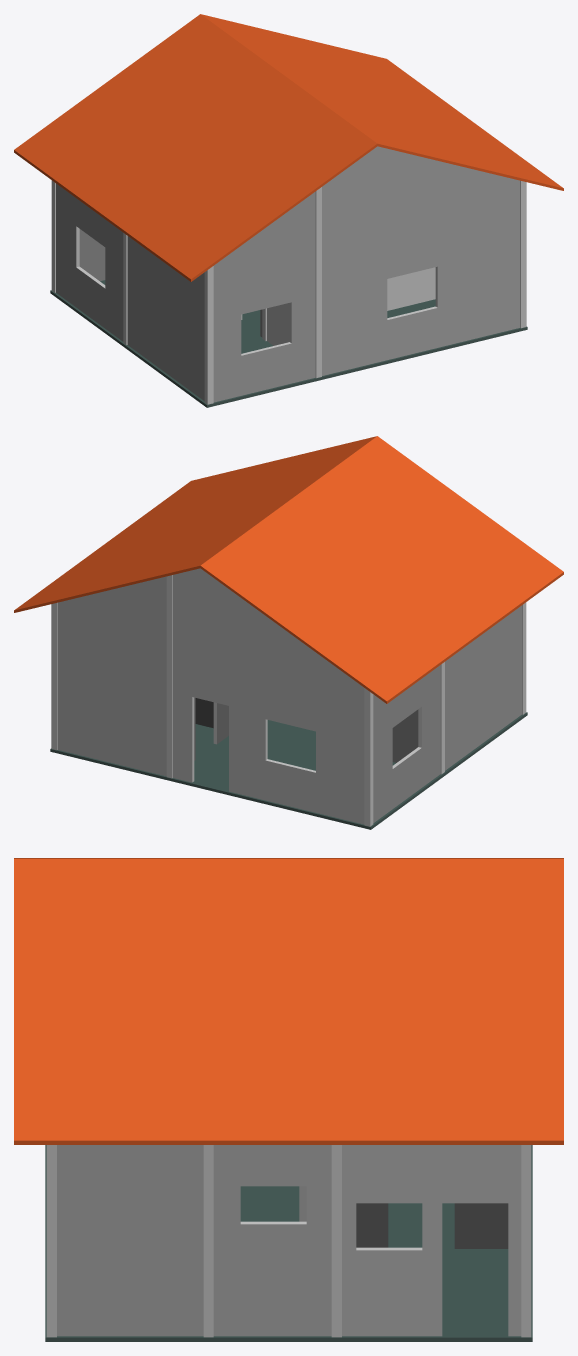
File: Casa C1-07.fbx
3 renders of one model, top to bottom at view 1: azimuth 30°, elevation 25°; view 2: azimuth 150°, elevation 25°; view 3: azimuth 270°, elevation 25°, orthographic. The views are drawn at different scales.
Visible parts, largest first — view 1: Cubo.001; view 2: Cubo.001; view 3: Cubo.001.
Boxes of the visible parts, x1,y1,x2,y2 form: Cubo.001: [14, 14, 563, 407]; Cubo.001: [14, 436, 563, 829]; Cubo.001: [14, 858, 563, 1341].
Size of the model in its own units: 2842 by 1694 by 2338.
